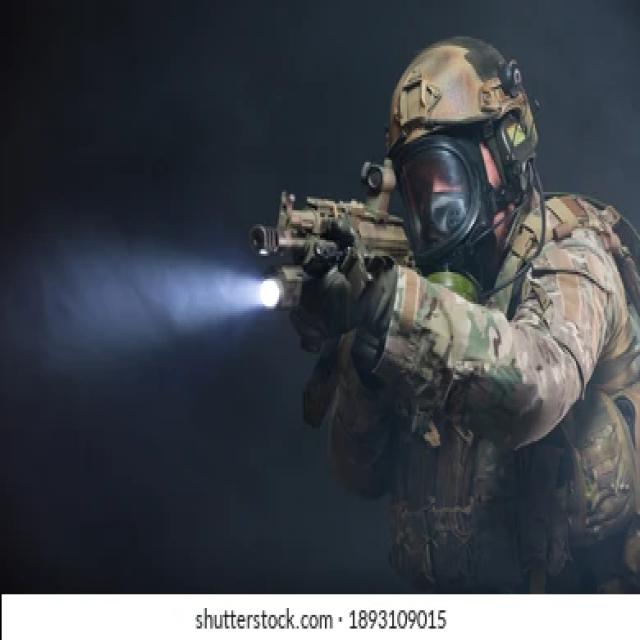soldier: (225, 44, 640, 593)
